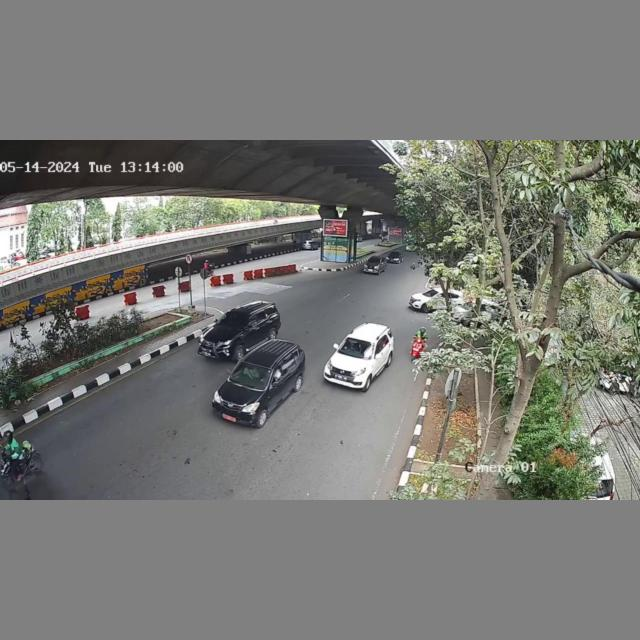windshield: (232, 361, 270, 387), (338, 336, 374, 359), (216, 311, 249, 330)
